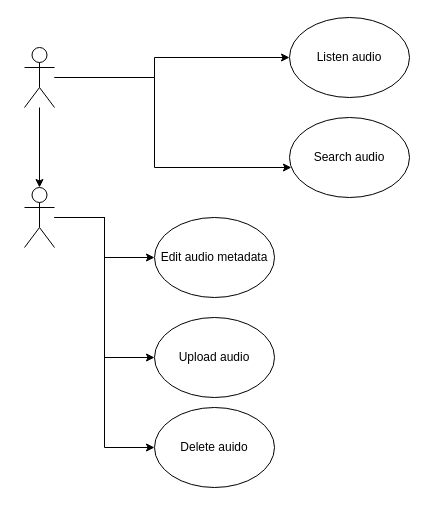
Image size: 427x505. Some labels were removed from this diagram. The shapes that lost their labels are listed below. From the top down, each one's centre as x and y in pixels, then its label:
(x=39, y=77): Anonym
(x=39, y=217): User
